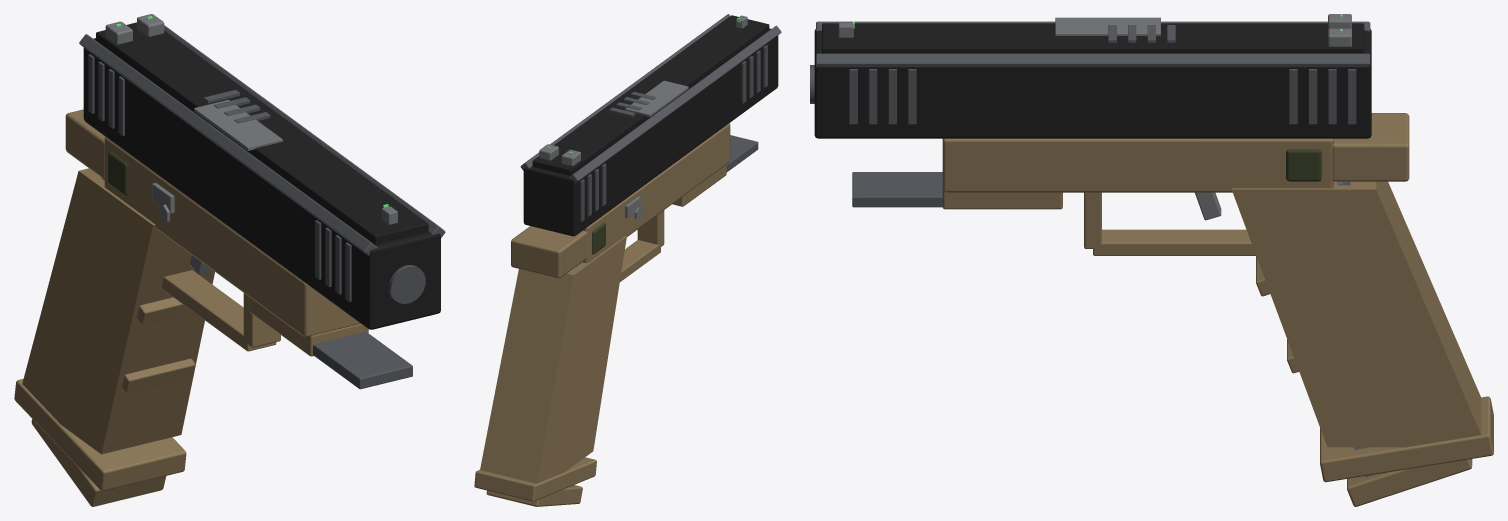
The model's file is MeteSft.obj.
3 renders of one model, left to right at view 1: azimuth 30°, elevation 25°; view 2: azimuth 150°, elevation 25°; view 3: azimuth 270°, elevation 25°, orthographic. The views are drawn at different scales.
Parts seen in each view (by area): view 1: Body, Slide, Magazine; view 2: Body, Slide, Magazine; view 3: Body, Slide, Magazine.
Part boxes in pixels (left/top/right/bottom): Body: left=14, top=109, right=412, bottom=491; Slide: left=79, top=14, right=445, bottom=329; Magazine: left=31, top=177, right=166, bottom=506; Body: left=474, top=123, right=758, bottom=501; Slide: left=520, top=14, right=781, bottom=236; Magazine: left=486, top=263, right=582, bottom=506; Body: left=852, top=113, right=1493, bottom=482; Slide: left=810, top=14, right=1371, bottom=138; Magazine: left=1337, top=181, right=1472, bottom=506.
Size of the model in its own units: 0.0314 by 0.1715 by 0.2271.
